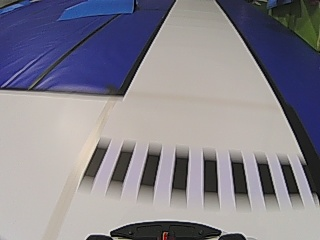CrossWalk: (74, 133, 319, 213)
